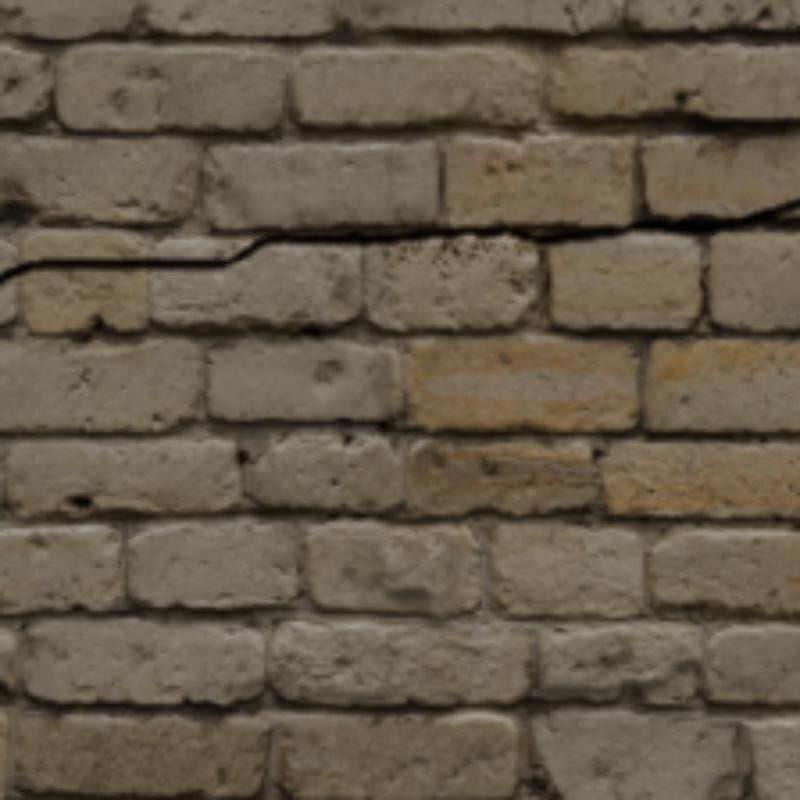pothole: (0, 196, 796, 282)
